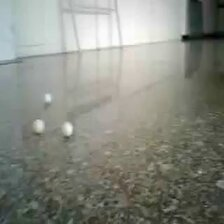w: (31, 119, 45, 134), (60, 122, 72, 136), (44, 93, 52, 102)
